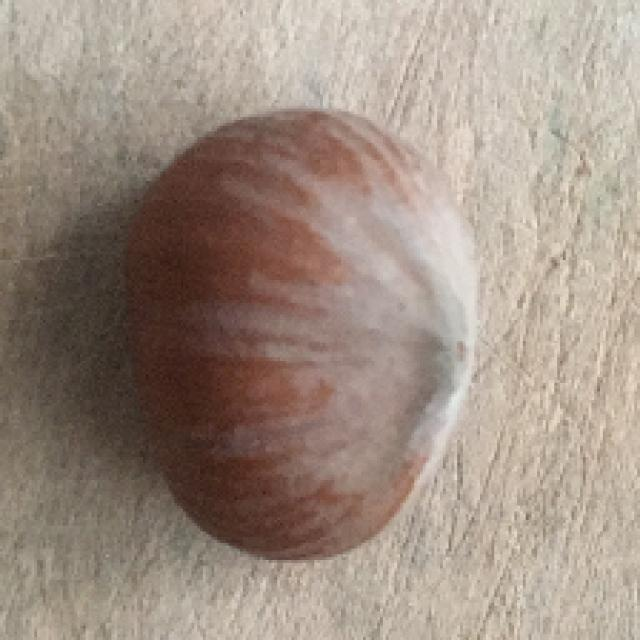QualityHazelnut: (118, 107, 481, 564)
